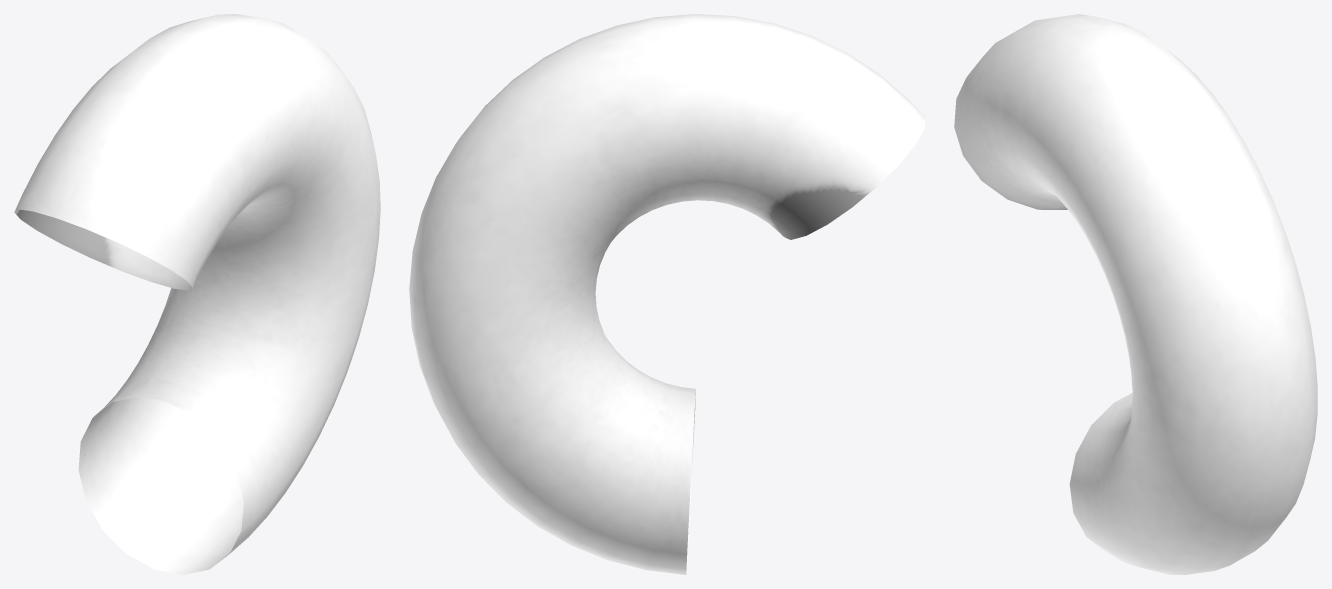
File: donut_L.gltf
3 renders of one model, left to right at view 1: azimuth 30°, elevation 25°; view 2: azimuth 150°, elevation 25°; view 3: azimuth 270°, elevation 25°, orthographic. The views are drawn at different scales.
Parts seen in each view (by area): view 1: Torus.003; view 2: Torus.003; view 3: Torus.003.
Part boxes in pixels (x1,y1,x2,y2): Torus.003: (14,14,380,574); Torus.003: (409,14,925,574); Torus.003: (954,14,1317,574).
Bounding box in the file's own units: 0.9216 × 1.14 × 0.7195.
Materials: 1 (1 with a texture image).
